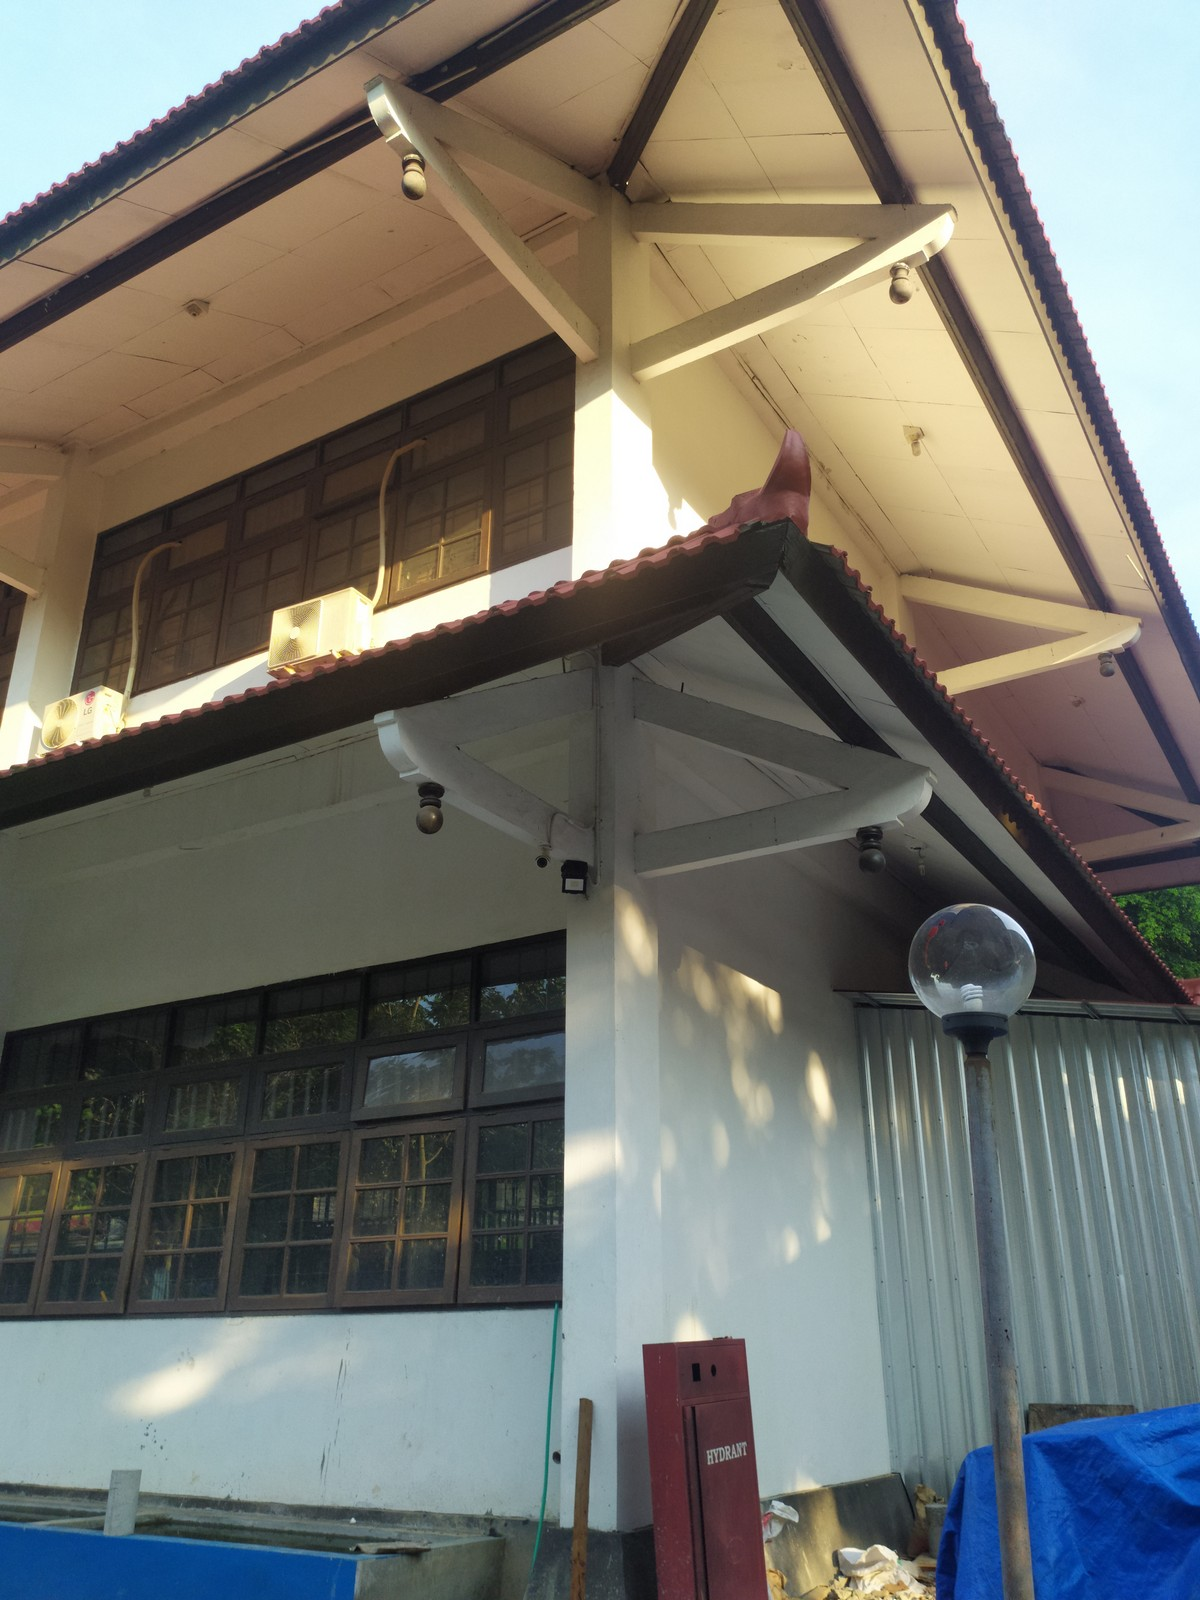concrete beam: (623, 796, 832, 884)
concrete column: (550, 690, 673, 1531), (567, 174, 667, 564)
